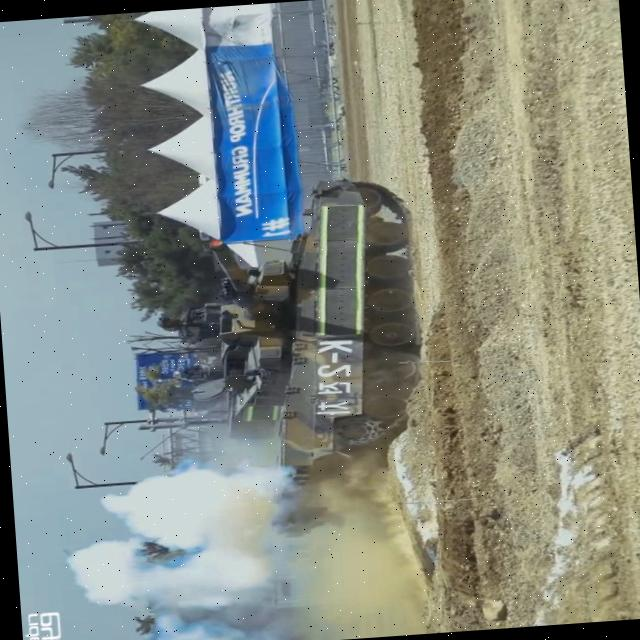korea tank: (144, 170, 436, 548)
